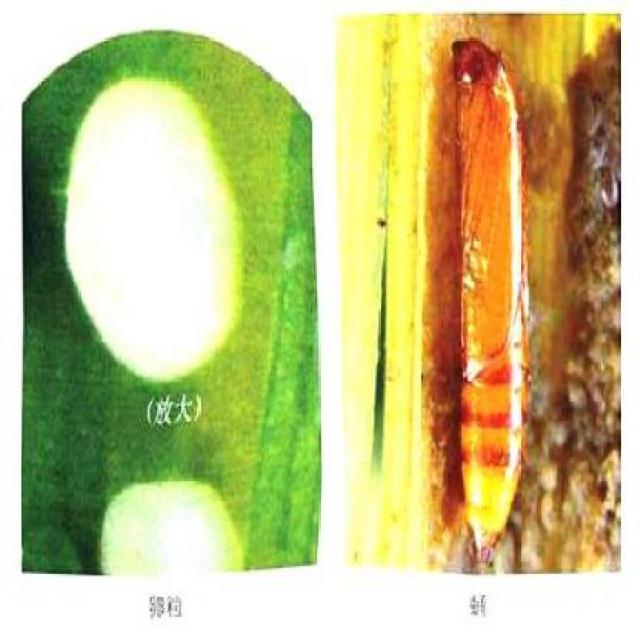whorl-maggot: (448, 33, 537, 564)
